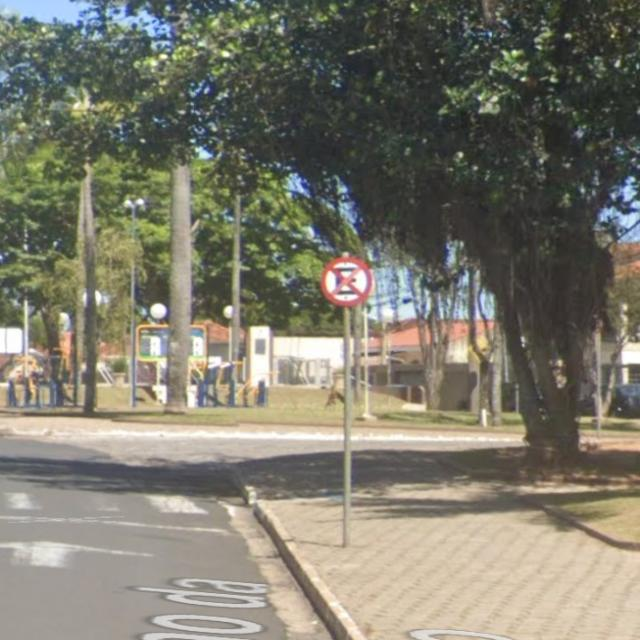no parking: (307, 231, 393, 317)
